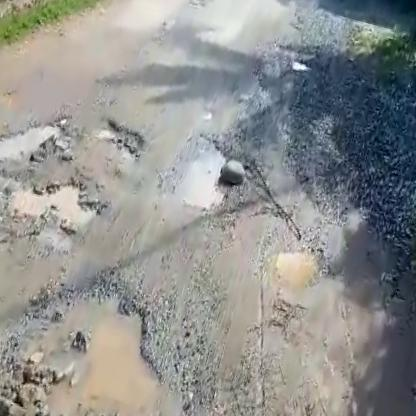pothole: (0, 266, 195, 416), (0, 163, 111, 243), (0, 98, 82, 184), (165, 134, 238, 218), (269, 237, 325, 292), (95, 113, 151, 159)
